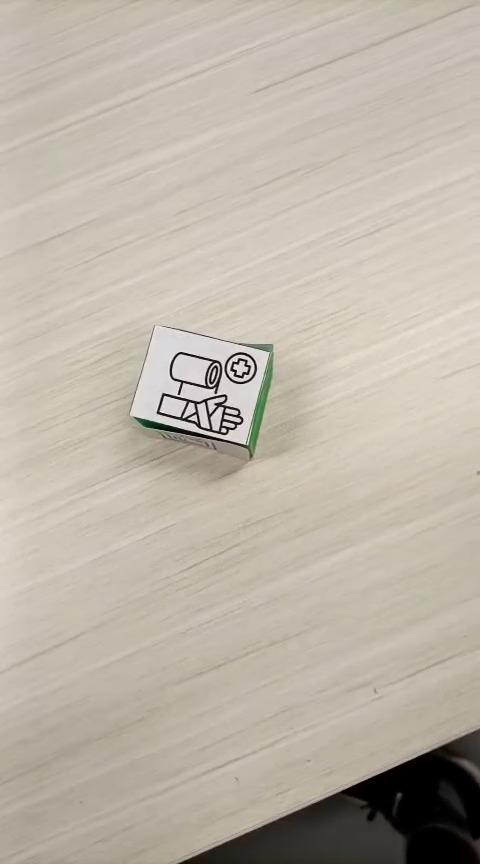Bandages: (128, 323, 274, 461)
